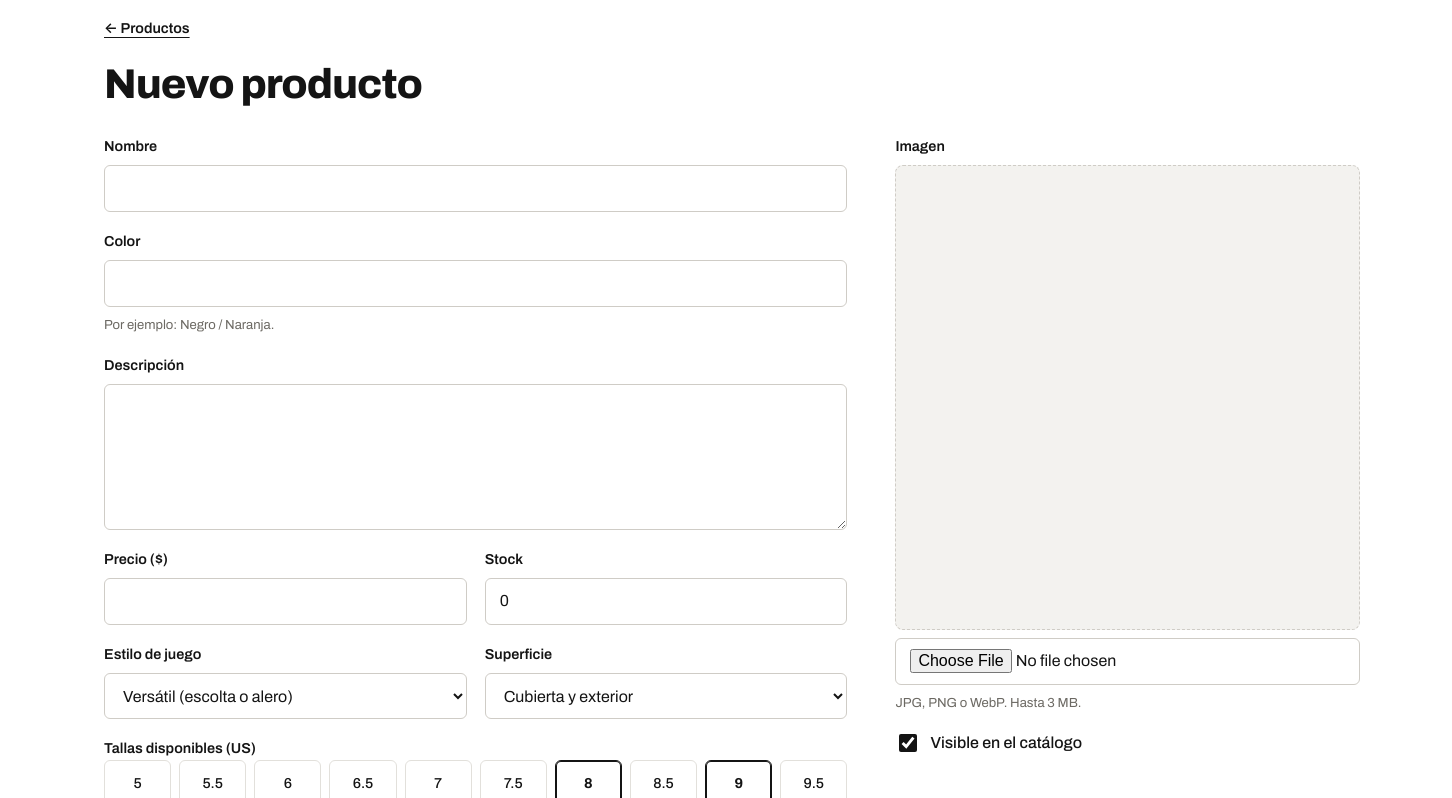
it: formulario de producto del admin › exige al menos una talla
This screenshot has width=1452, height=798.
Type "Zapatilla nueva" into the field labelled "Nombre" at (476, 189), box x1=104 y1=165 x2=847 y2=212
Type "5190" into the field labelled "Precio ($)" at (285, 602), box x1=104 y1=578 x2=467 y2=625
(page scrolled)
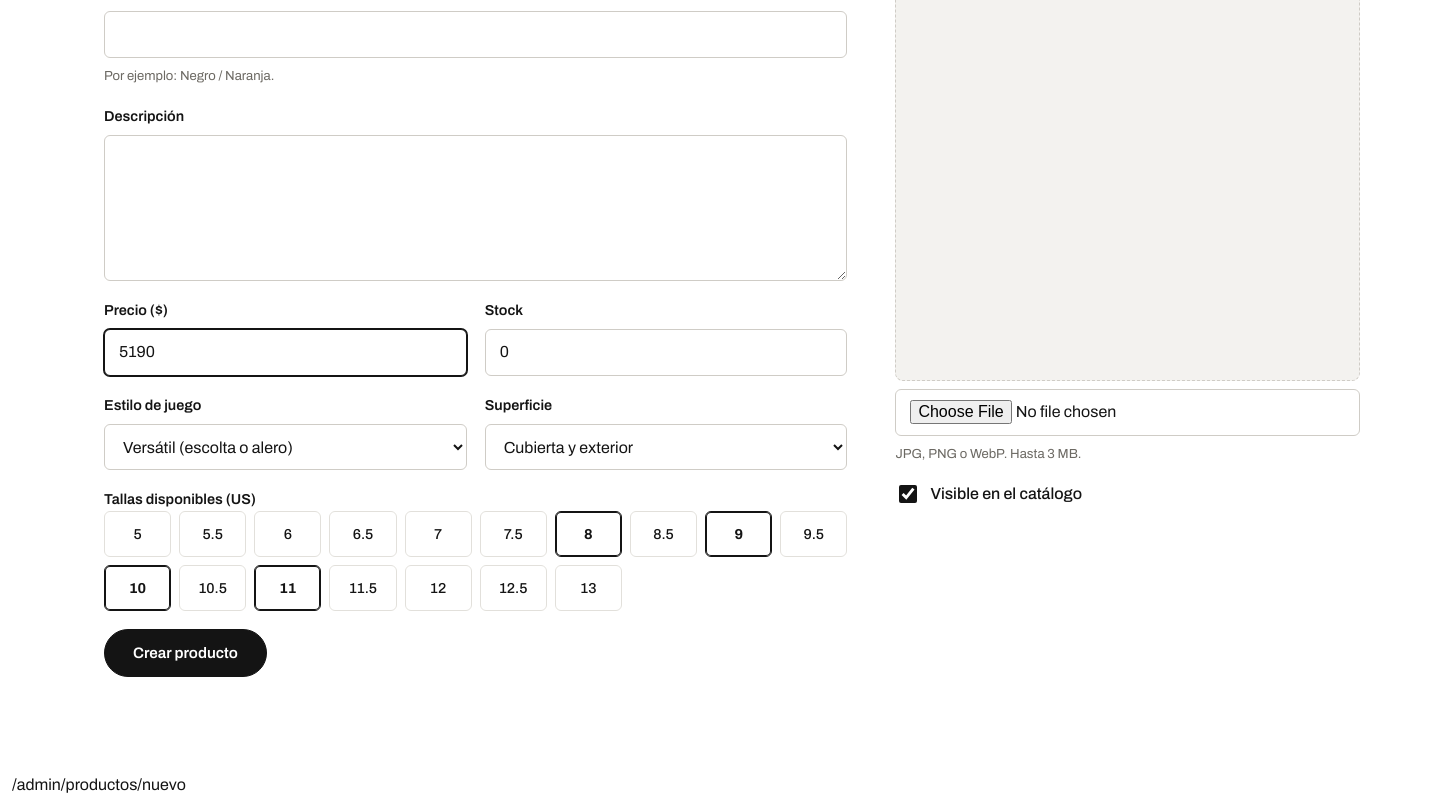
Click the checkbox labelled "8" at (588, 534), box x1=555 y1=511 x2=622 y2=557
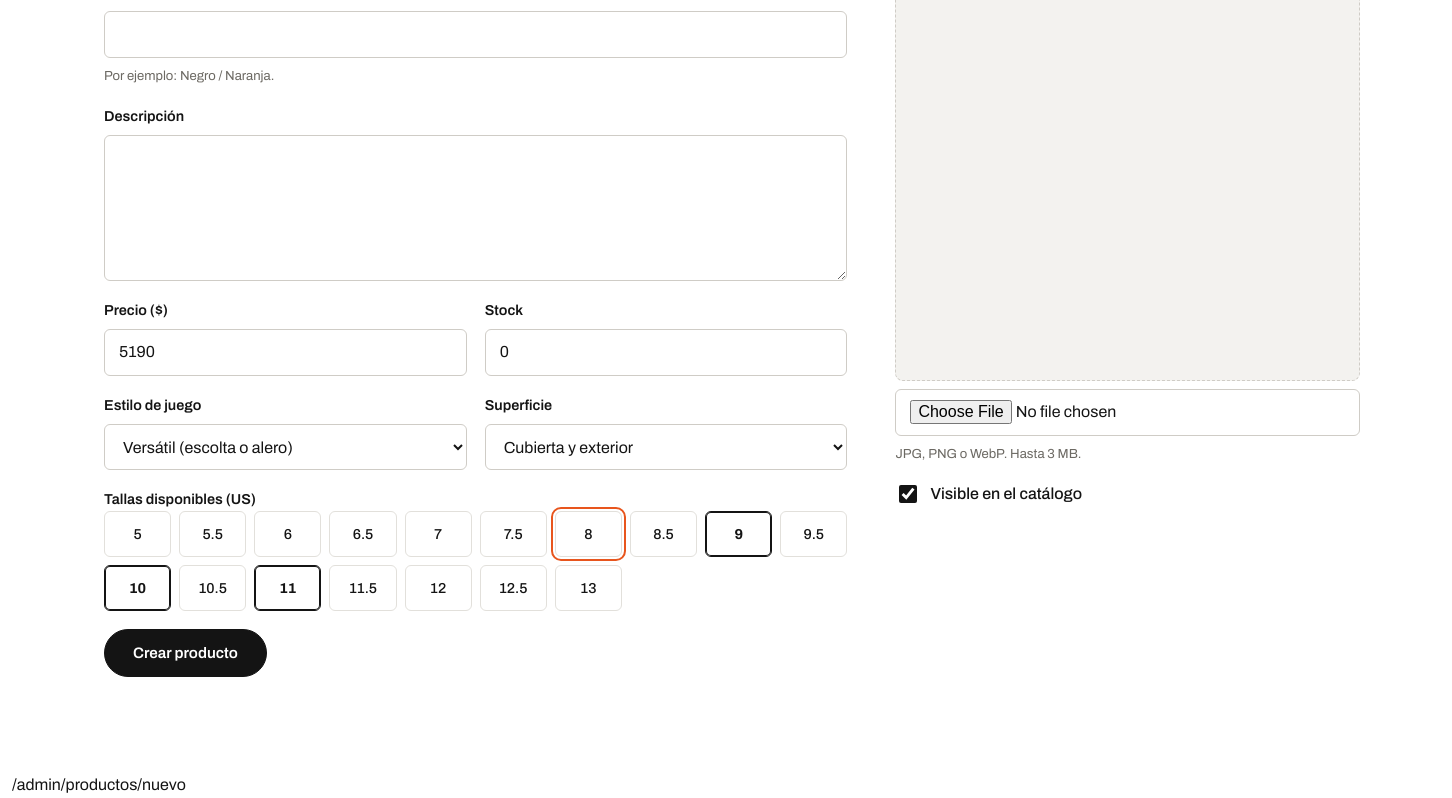
Click the checkbox labelled "9" at (739, 534), box x1=705 y1=511 x2=772 y2=557
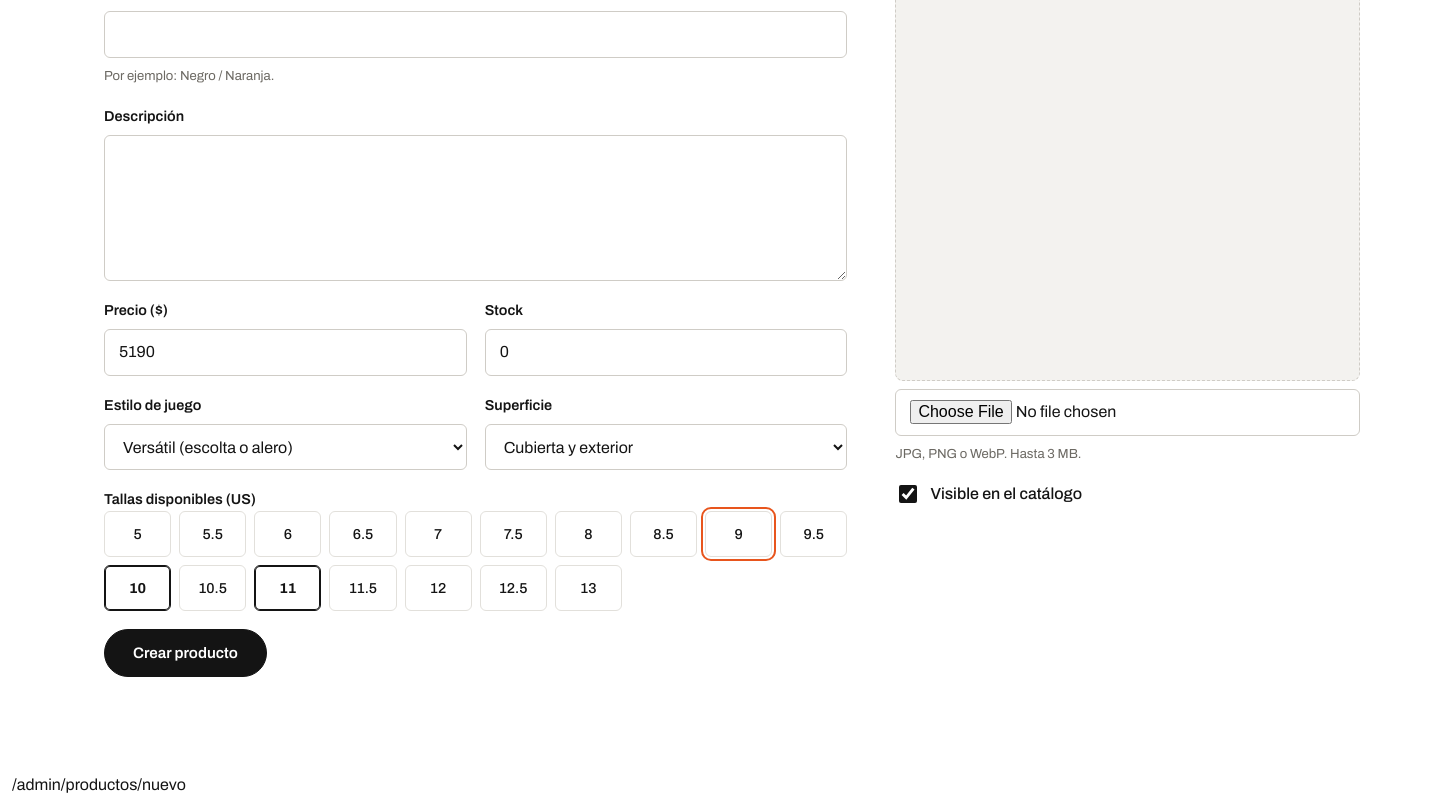
Click the checkbox labelled "10" at (138, 588), box x1=104 y1=565 x2=171 y2=611
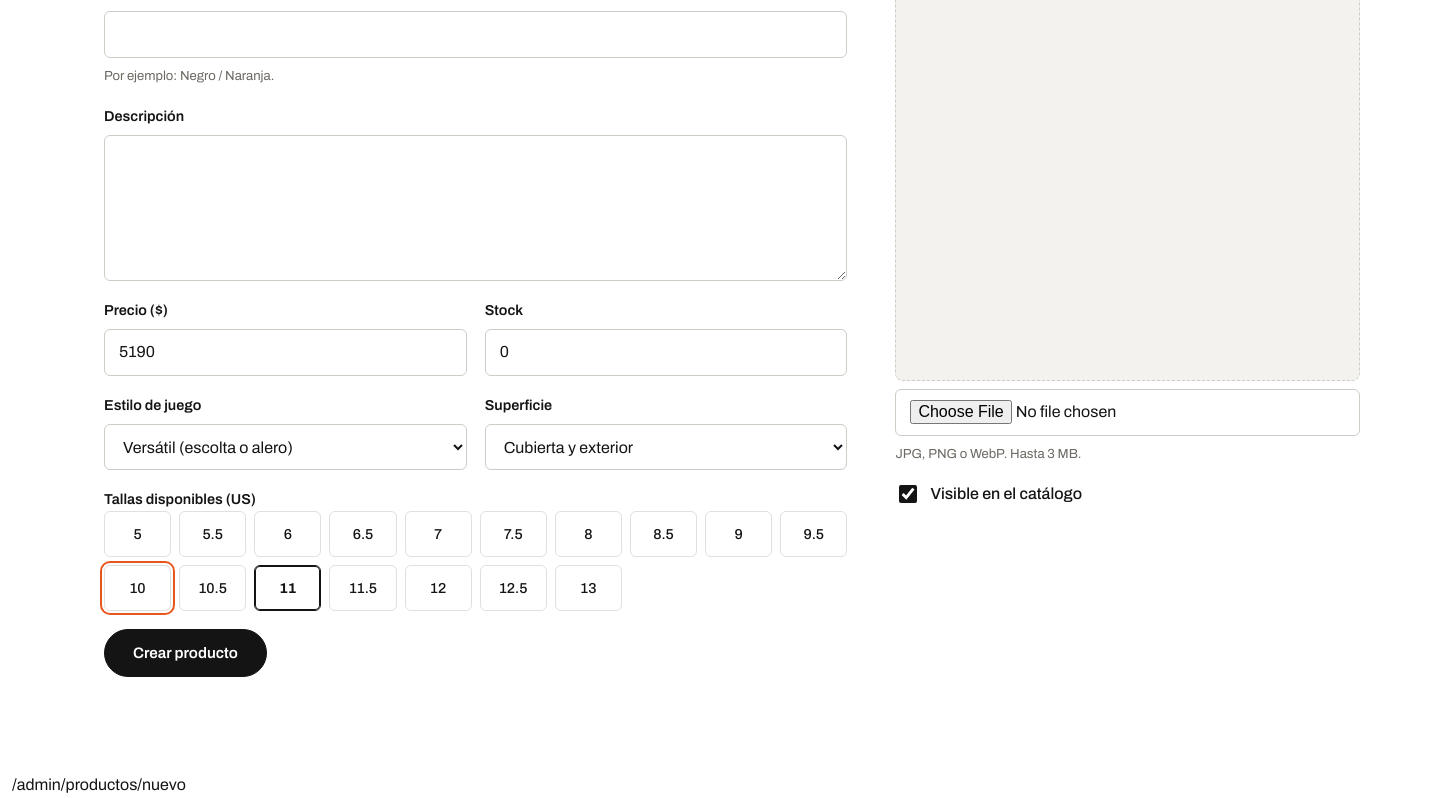
Click the checkbox labelled "11" at (288, 588), box x1=254 y1=565 x2=321 y2=611
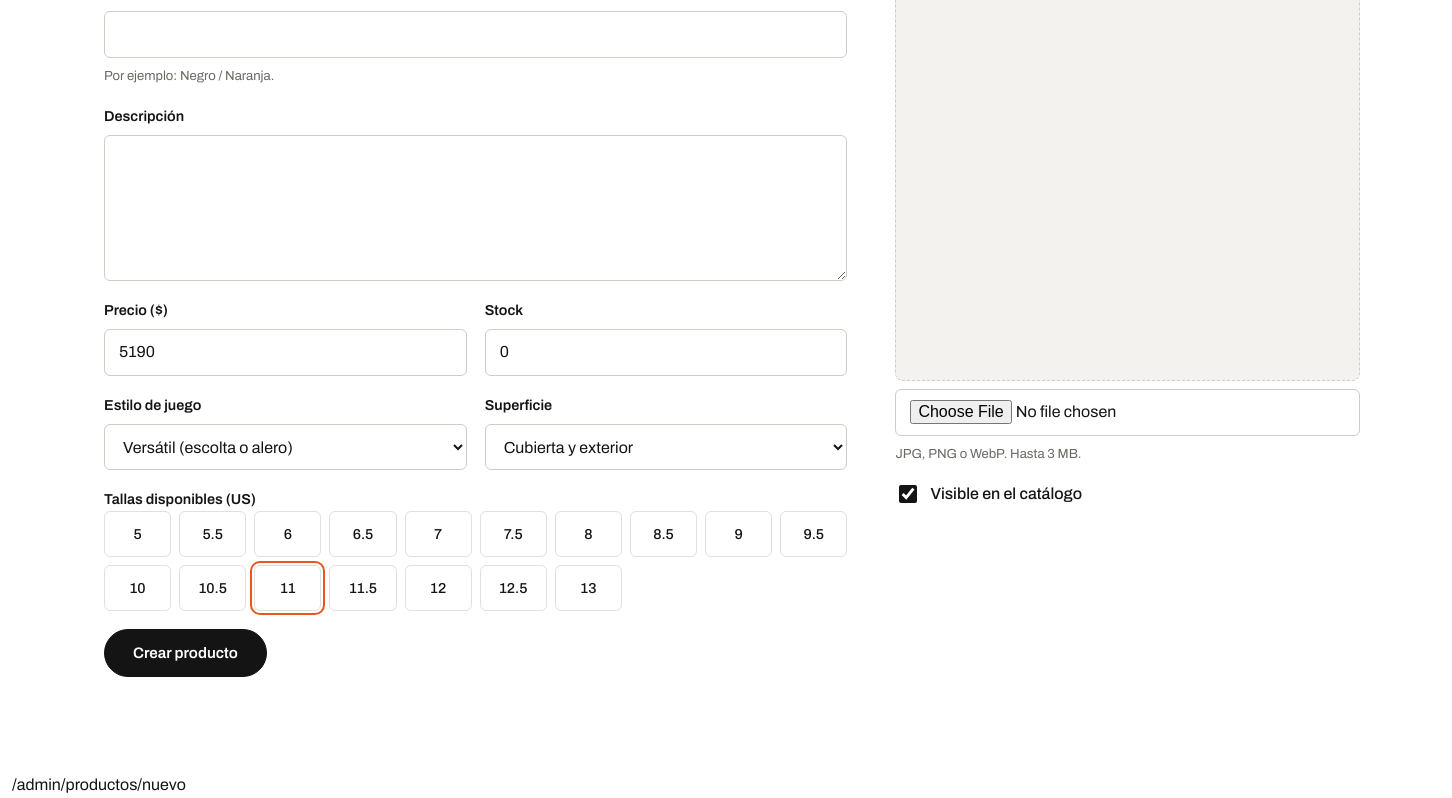
Click the button "Crear producto" at (185, 653), box x1=104 y1=629 x2=267 y2=677
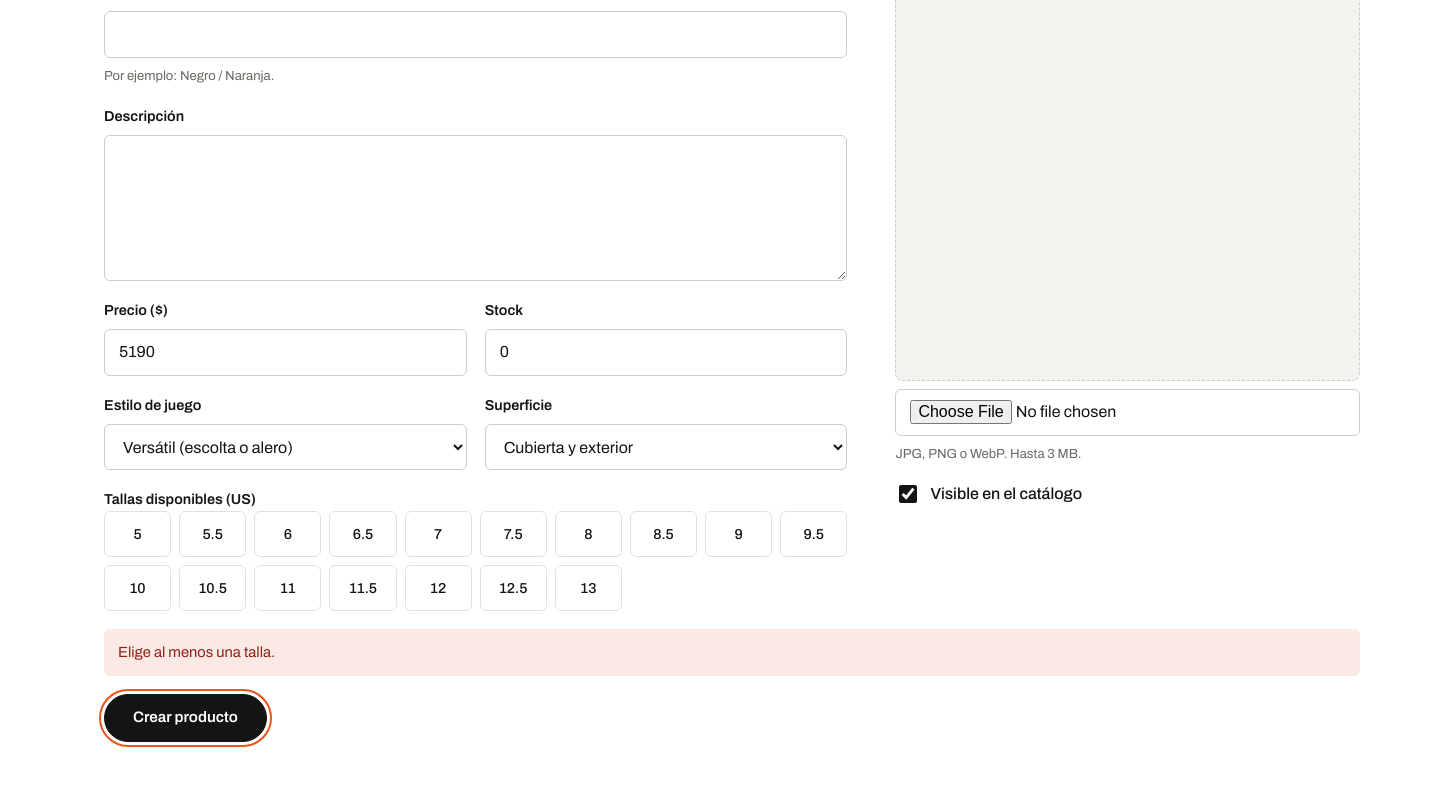
Check: the message reads "Elige al menos una talla.", box x1=118 y1=644 x2=275 y2=660
